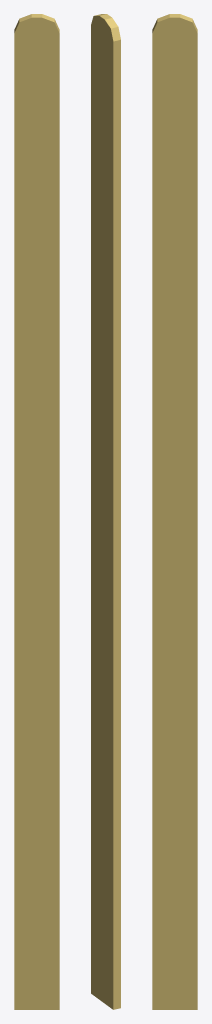
Rendered from stick.glb.
3 views of the same model, side by side, from view 1: azimuth 90°, elevation 25°; view 2: azimuth 210°, elevation 25°; view 3: azimuth 270°, elevation 25° (orthographic).
Visible parts, largest first — view 1: Plane.002; view 2: Plane.002; view 3: Plane.002.
Part boxes in pixels (x1,y1,x2,y2): Plane.002: (14,14,59,1009); Plane.002: (91,14,120,1009); Plane.002: (152,14,197,1009).
Size of the model in its own units: 0.0731 by 9.01 by 0.3722.
